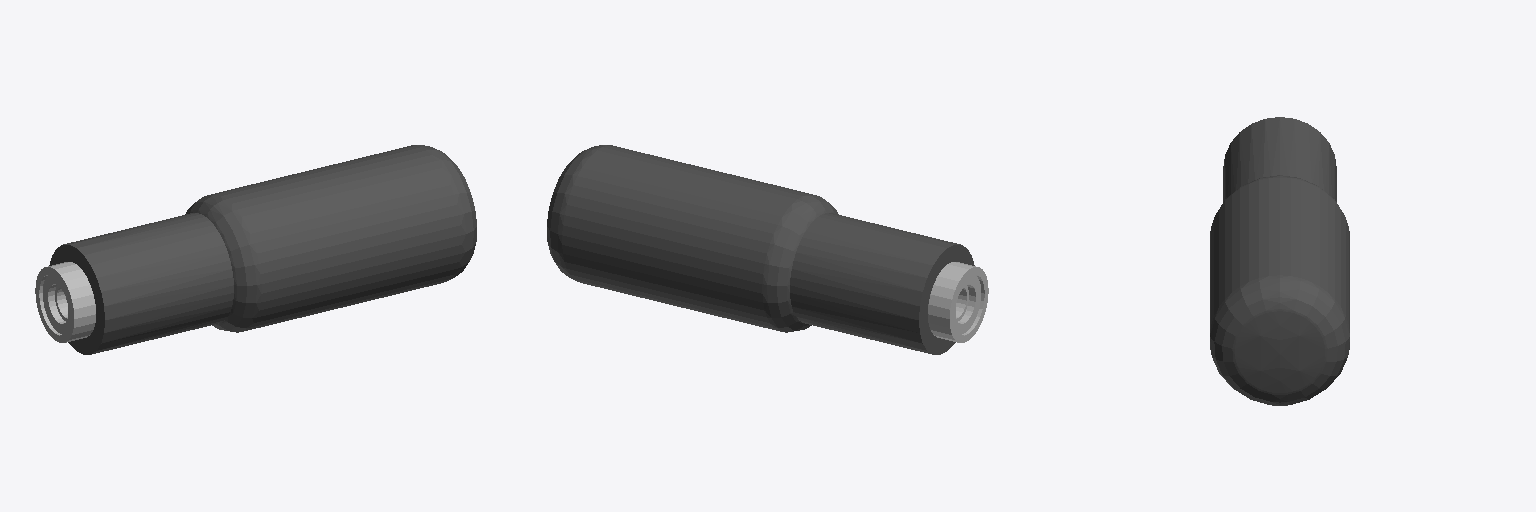
The picture shows the model from 3 angles: view 1: azimuth 30°, elevation 25°; view 2: azimuth 150°, elevation 25°; view 3: azimuth 270°, elevation 25°; orthographic projection.
Visible parts, largest first — view 1: gn_798_2-kt-18-m5_1; view 2: gn_798_2-kt-18-m5_1; view 3: gn_798_2-kt-18-m5_1.
Boxes of the visible parts, box(x1,y1,x2,y2) form: gn_798_2-kt-18-m5_1: box(35, 145, 476, 354); gn_798_2-kt-18-m5_1: box(547, 145, 988, 354); gn_798_2-kt-18-m5_1: box(1210, 117, 1349, 405).
Bounding box in the file's own units: 59.2 × 18 × 17.95.